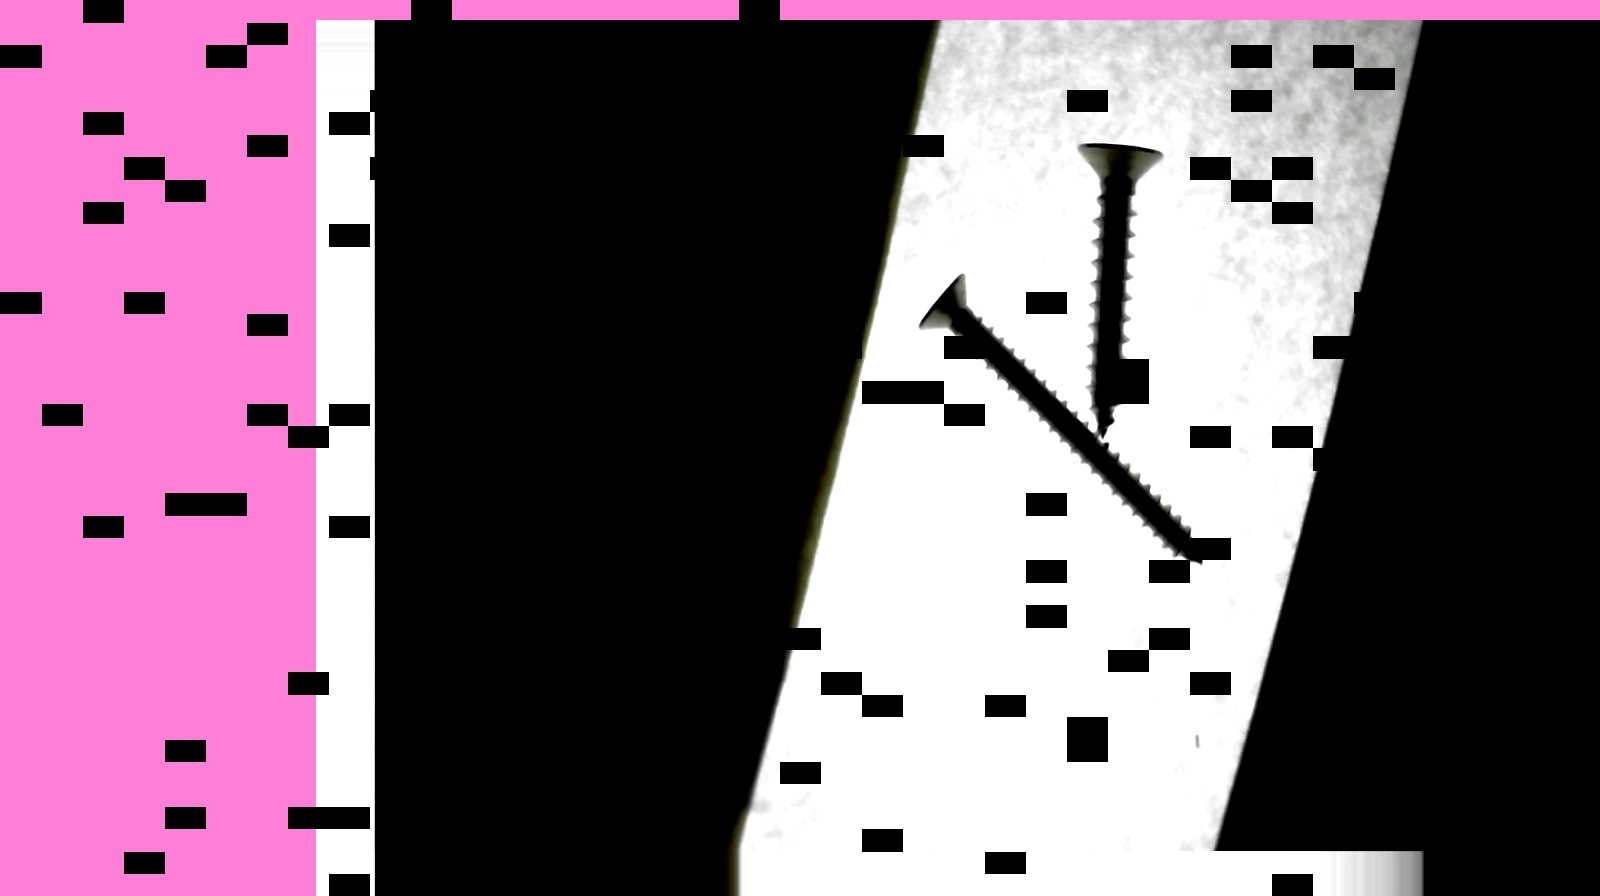S001: (1066, 132, 1158, 440)
S002: (916, 269, 1201, 567)
